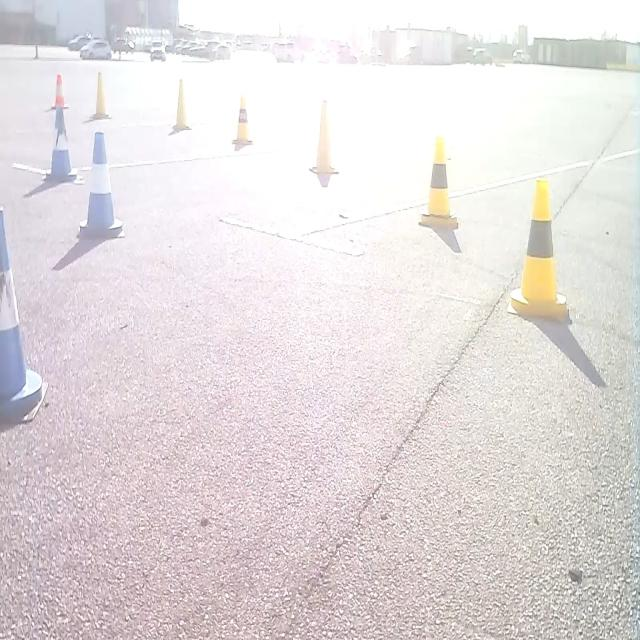blue_cone: (0, 203, 44, 429), (78, 130, 124, 240), (44, 105, 78, 182)
orange_cone: (50, 72, 68, 110)
yellow_cone: (508, 176, 569, 321), (419, 134, 458, 230), (310, 98, 338, 178), (232, 95, 252, 149), (90, 70, 110, 120), (172, 77, 190, 132)
